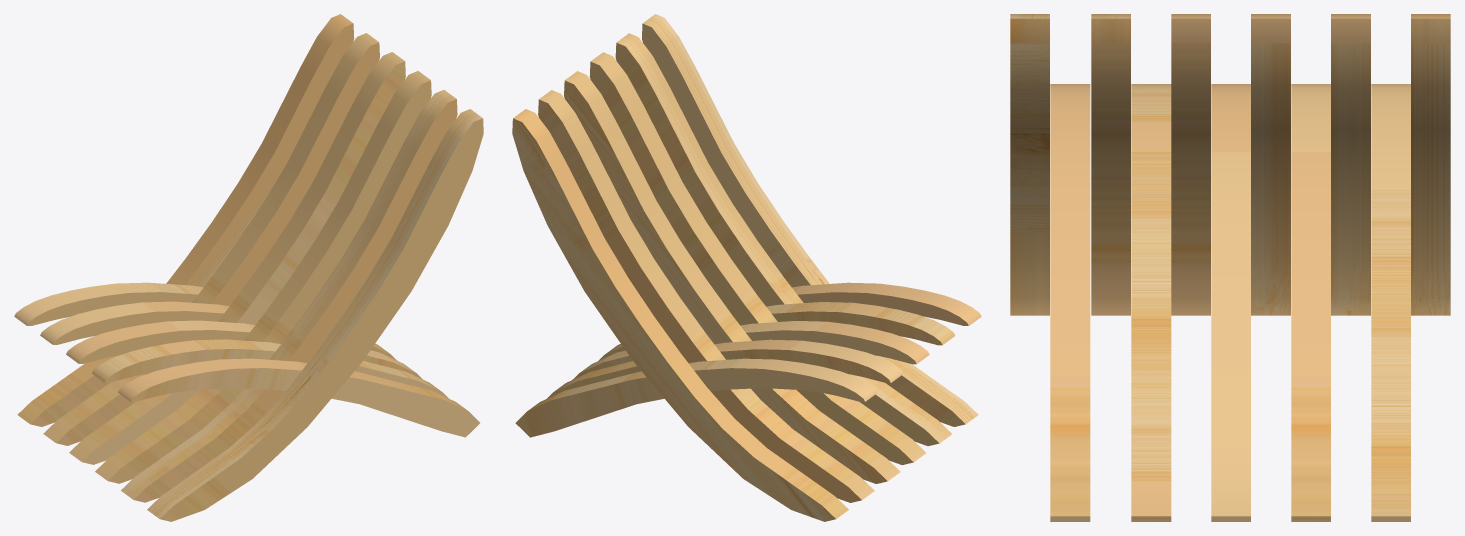
Rendered from chair.fbx.
The picture shows the model from 3 angles, left to right: view 1: azimuth 30°, elevation 25°; view 2: azimuth 150°, elevation 25°; view 3: azimuth 270°, elevation 25°; orthographic projection. The views are drawn at different scales.
Visible parts, largest first — view 1: Chair1; view 2: Chair1; view 3: Chair1.
Boxes of the visible parts, <box> form: Chair1: <box>14,14,483,521</box>; Chair1: <box>512,14,981,521</box>; Chair1: <box>1010,14,1450,521</box>.
Bounding box in the file's own units: 7.84 × 7.02 × 5.53.
